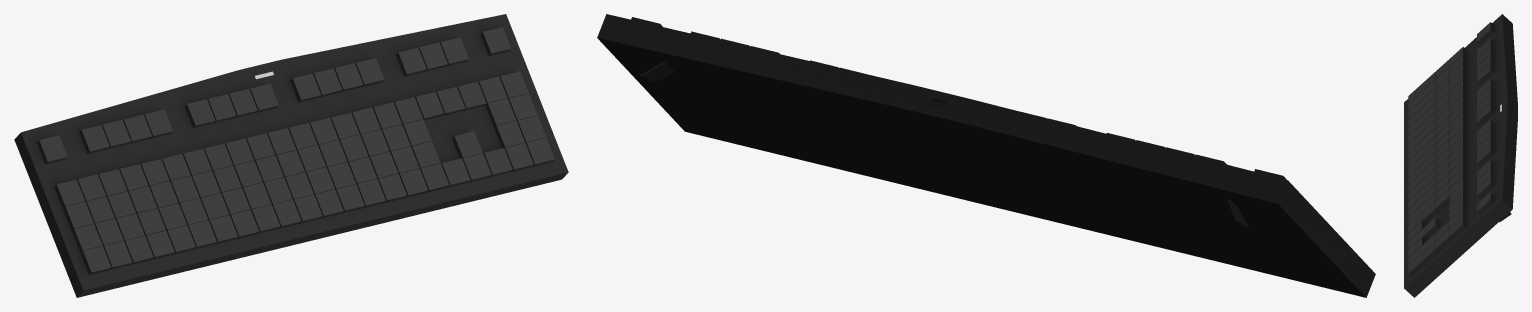
The model's file is keyboard.glb.
3 renders of one model, left to right at view 1: azimuth 30°, elevation 25°; view 2: azimuth 150°, elevation 25°; view 3: azimuth 270°, elevation 25°, orthographic. The views are drawn at different scales.
Visible parts, largest first — view 1: Keyboard.001; view 2: Keyboard.001; view 3: Keyboard.001.
Boxes of the visible parts, box(x1,y1,x2,y2) form: Keyboard.001: box(14, 14, 568, 297); Keyboard.001: box(597, 14, 1375, 297); Keyboard.001: box(1404, 14, 1517, 297).
Bounding box in the file's own units: 0.445 × 0.1145 × 0.1151.
3 materials, 3 textured.
